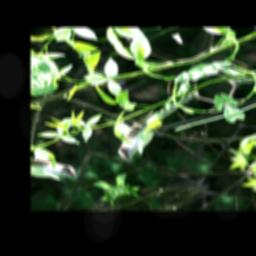Cuckoo: (95, 90, 227, 166)
